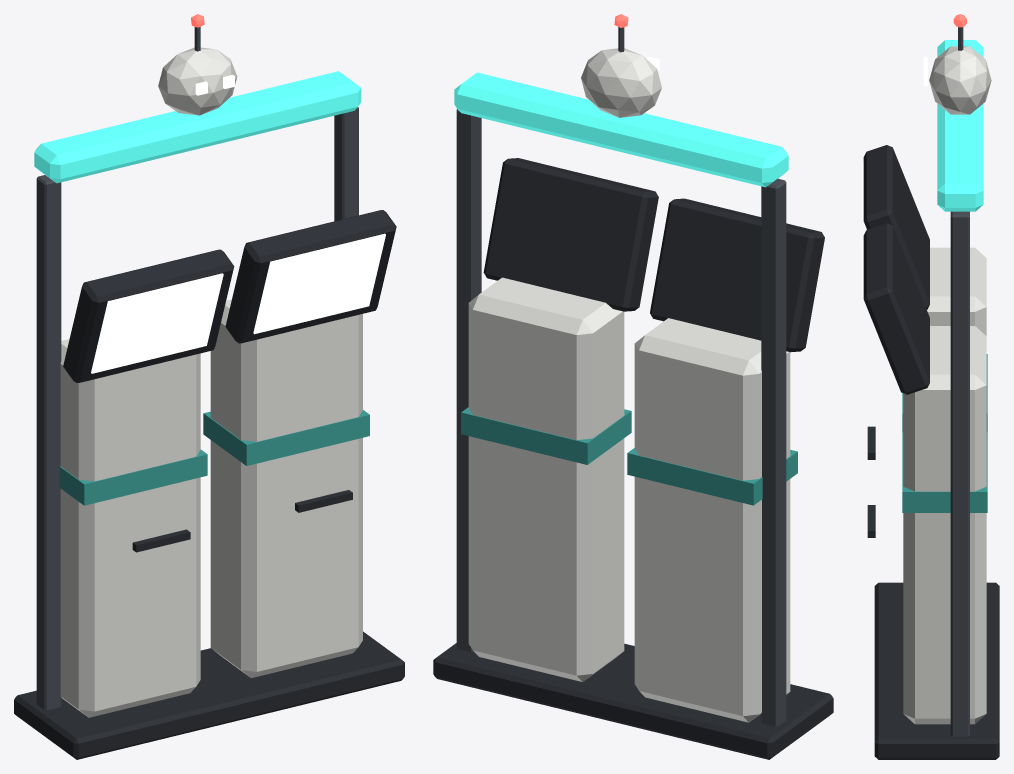
Rendered from selfservice_3.glb.
3 views of the same model, side by side, from view 1: azimuth 30°, elevation 25°; view 2: azimuth 150°, elevation 25°; view 3: azimuth 270°, elevation 25° (orthographic). The views are drawn at different scales.
Parts seen in each view (by area): view 1: selfservice_3_mesh; view 2: selfservice_3_mesh; view 3: selfservice_3_mesh.
Part boxes in pixels (x1,y1,x2,y2): selfservice_3_mesh: [14, 14, 404, 759]; selfservice_3_mesh: [433, 14, 833, 759]; selfservice_3_mesh: [862, 14, 999, 759].
Bounding box in the file's own units: 0.98 × 1.91 × 0.3563.
